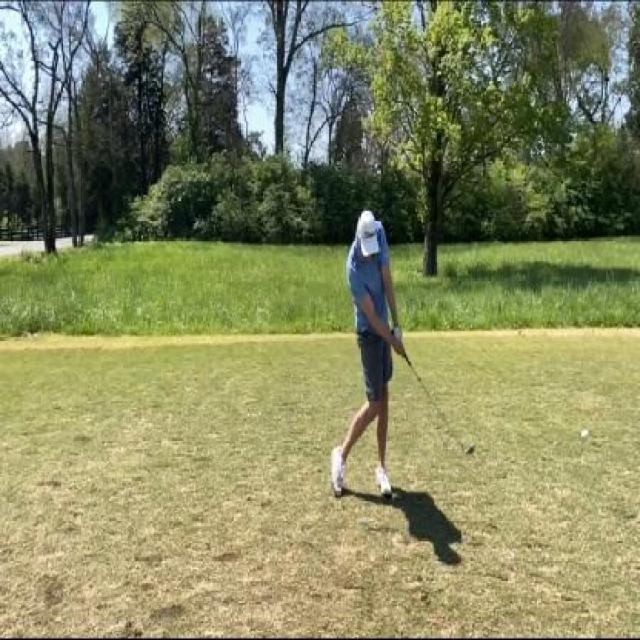club head: (461, 440, 477, 458)
